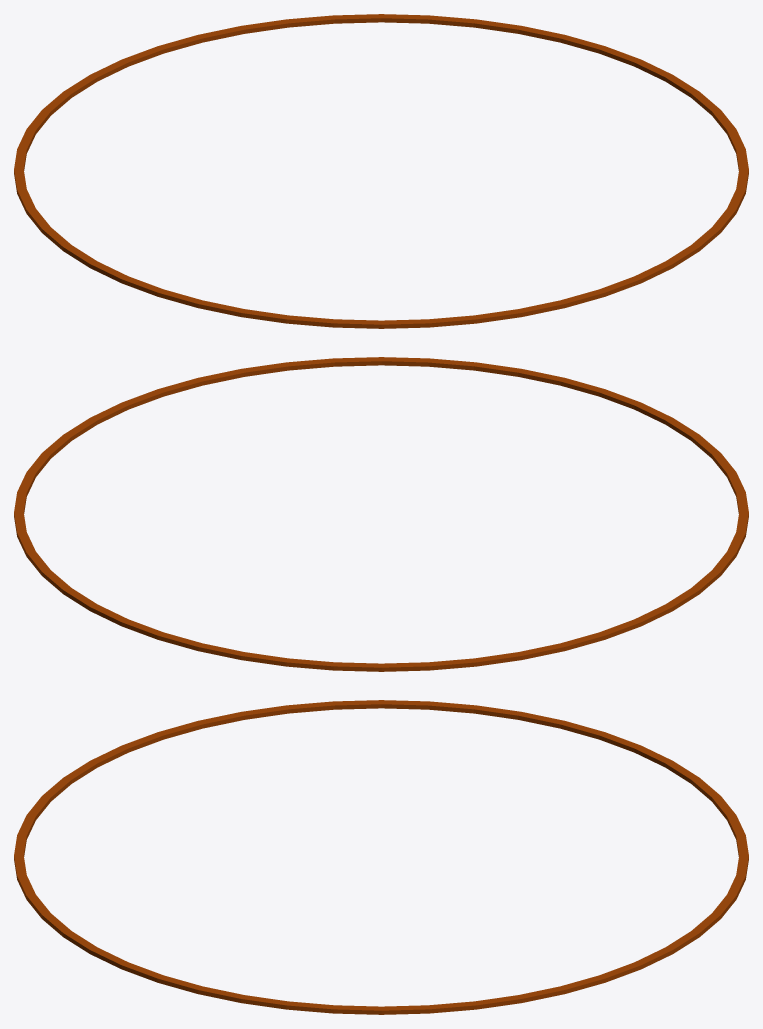
Rendered from TimerRing.FBX.
3 renders of one model, top to bottom at view 1: azimuth 30°, elevation 25°; view 2: azimuth 150°, elevation 25°; view 3: azimuth 270°, elevation 25°, orthographic.
Visible parts, largest first — view 1: TimerRing; view 2: TimerRing; view 3: TimerRing.
Boxes of the visible parts, left/top/right/bottom form: TimerRing: left=14, top=14, right=748, bottom=328; TimerRing: left=14, top=357, right=748, bottom=671; TimerRing: left=14, top=700, right=748, bottom=1014.
Bounding box in the file's own units: 158 × 0.9947 × 158.
